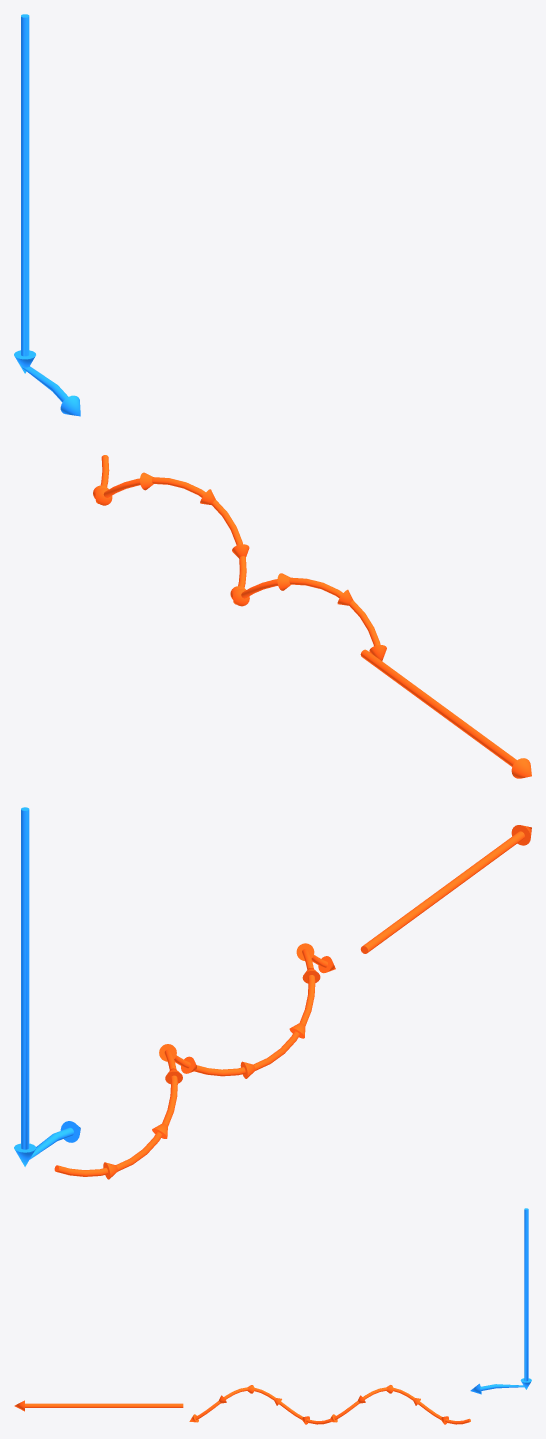
Rendered from progressive_cavity_pump_flow.glb.
3 renders of one model, top to bottom at view 1: azimuth 30°, elevation 25°; view 2: azimuth 150°, elevation 25°; view 3: azimuth 270°, elevation 25°, orthographic. The views are drawn at different scales.
Visible parts, largest first — view 1: flow_cavity, flow_in, flow_out; view 2: flow_cavity, flow_in, flow_out; view 3: flow_cavity, flow_in, flow_out.
Part boxes in pixels (x1,y1,x2,y2): flow_cavity: (93, 455, 386, 660); flow_in: (14, 14, 80, 416); flow_out: (360, 649, 531, 778); flow_cavity: (54, 943, 335, 1179); flow_in: (14, 807, 80, 1166); flow_out: (360, 825, 531, 953); flow_cavity: (189, 1385, 470, 1424); flow_in: (470, 1208, 531, 1394); flow_out: (14, 1400, 183, 1411).
Size of the model in its own units: 0.0933 by 0.5488 by 1.19.
